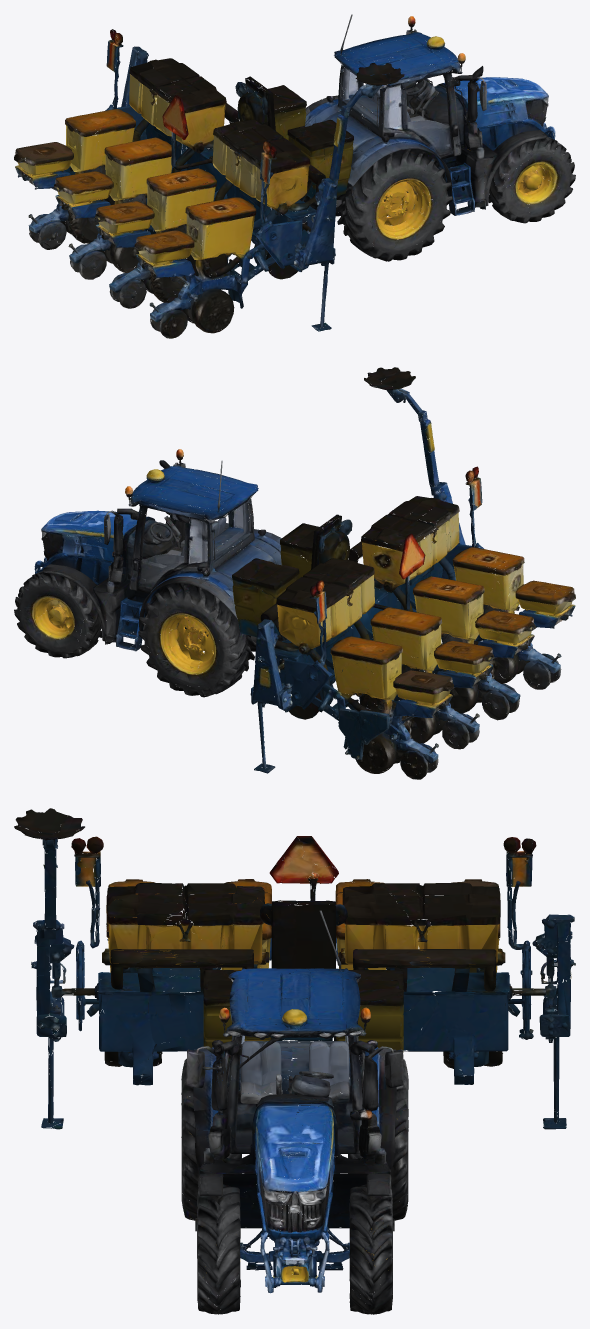
File: tractor_azul.glb
The picture shows the model from 3 angles, top to bottom: view 1: azimuth 30°, elevation 25°; view 2: azimuth 150°, elevation 25°; view 3: azimuth 270°, elevation 25°; orthographic projection. The views are drawn at different scales.
Parts seen in each view (by area): view 1: sembradora, tractor; view 2: sembradora, tractor; view 3: sembradora, tractor.
Part boxes in pixels (left/top/right/bottom): sembradora: left=14, top=29, right=404, bottom=338; tractor: left=300, top=14, right=575, bottom=261; sembradora: left=232, top=367, right=575, bottom=779; tractor: left=14, top=449, right=300, bottom=697; sembradora: left=14, top=808, right=575, bottom=1129; tractor: left=181, top=910, right=408, bottom=1314.
Size of the model in its own units: 7.61 by 3.76 by 5.62.
Materials: 2 (2 with a texture image).
